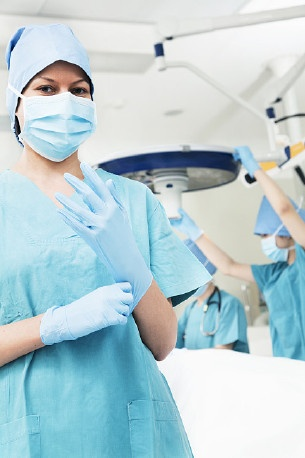Mask: (16, 72, 99, 155)
